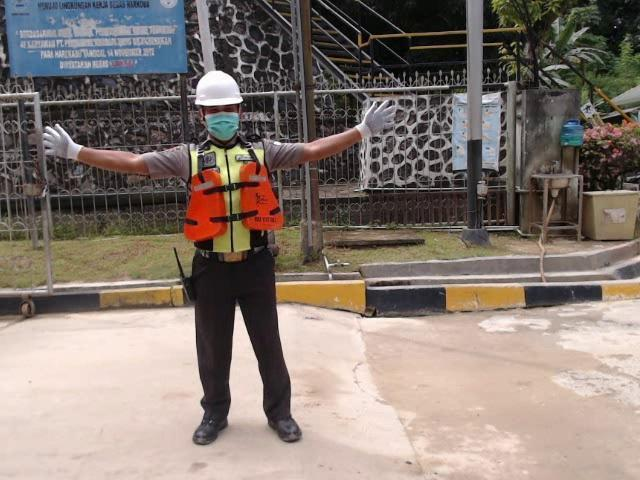vest: (183, 162, 286, 238)
